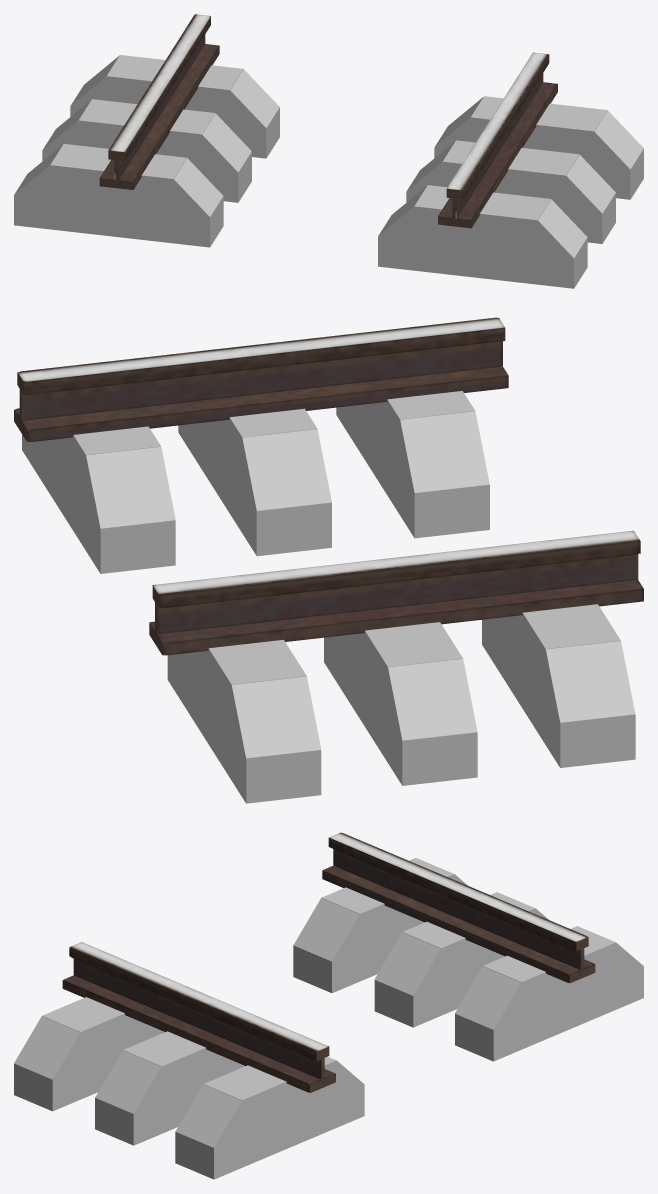
Rendered from diag_2.obj.
3 views of the same model, one above another, from view 1: azimuth 30°, elevation 25°; view 2: azimuth 150°, elevation 25°; view 3: azimuth 270°, elevation 25° (orthographic). The views are drawn at different scales.
Visible parts, largest first — view 1: cube; view 2: cube; view 3: cube.
Boxes of the visible parts, bbox=[...] form: cube: bbox=[14, 14, 643, 288]; cube: bbox=[14, 317, 643, 803]; cube: bbox=[14, 832, 643, 1179].
Bounding box in the file's own units: 2.59 × 0.4738 × 2.59.
